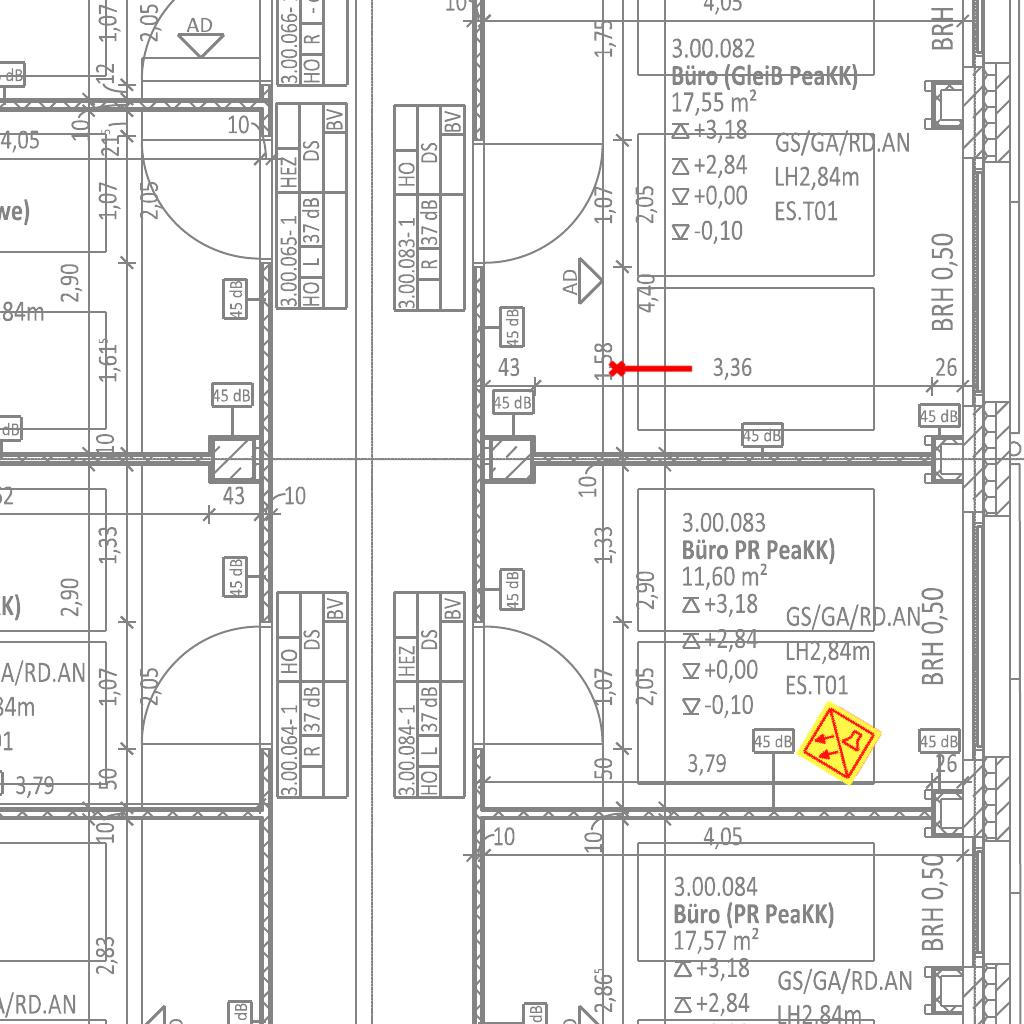ASR_Ansaugoeffnung: (607, 356, 695, 379)
OKW_Multisensormelder_(Kombination_optischer_Rauch-Kahlenmonoxid_Waerme-Melder): (793, 697, 885, 789)
